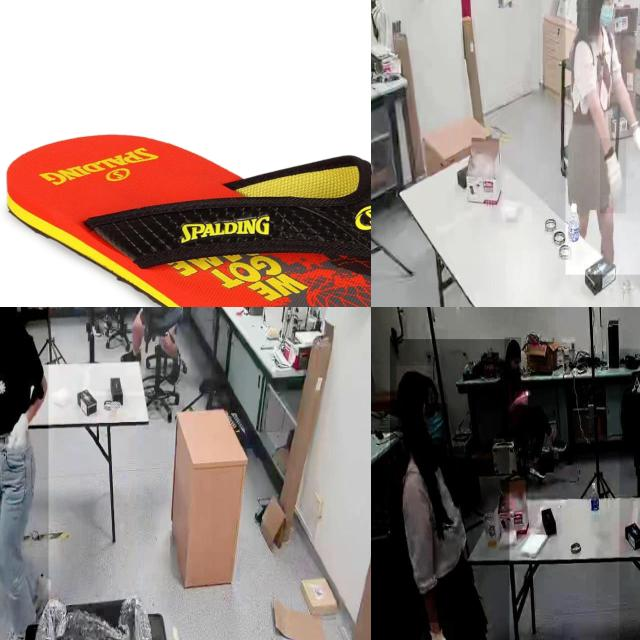Sandals: (1, 130, 371, 307)
face_mask: (424, 403, 448, 457), (588, 0, 619, 35)
face_nomask: (510, 358, 520, 370)
hand_glove: (600, 138, 626, 214), (6, 413, 32, 470), (628, 120, 640, 170), (425, 622, 454, 640)
hand_noglove: (516, 392, 528, 406)
head_nohelmet: (396, 366, 438, 395), (504, 338, 522, 354)
person: (390, 339, 510, 640), (565, 0, 640, 275), (0, 307, 49, 640), (126, 307, 190, 376)
shoes: (0, 619, 34, 640)
